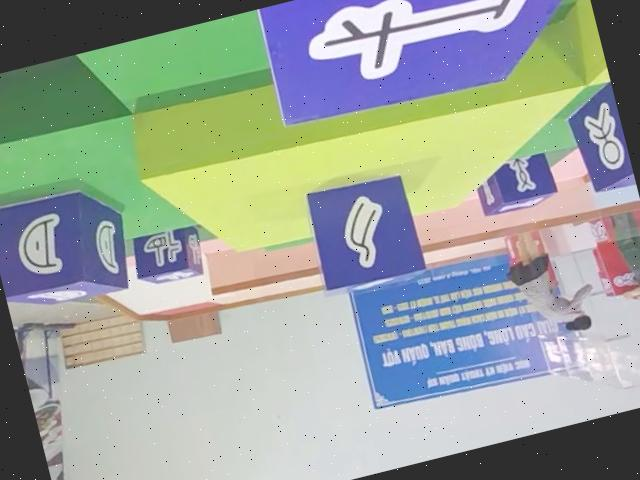R2 Real Blue: (254, 0, 604, 136), (0, 176, 135, 316), (297, 167, 426, 299), (561, 77, 635, 193), (467, 149, 556, 220), (127, 223, 209, 291)
